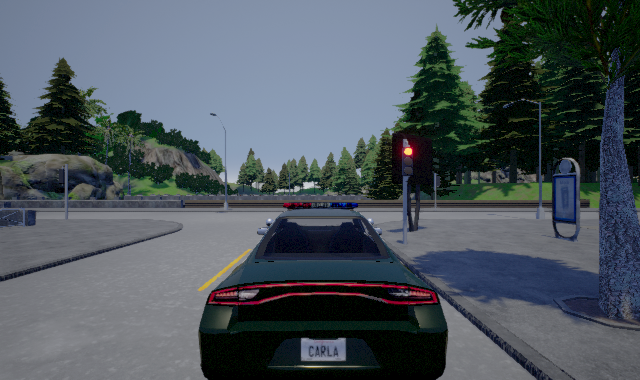traffic_light: (402, 141, 413, 182)
vehicle: (198, 202, 449, 380)
